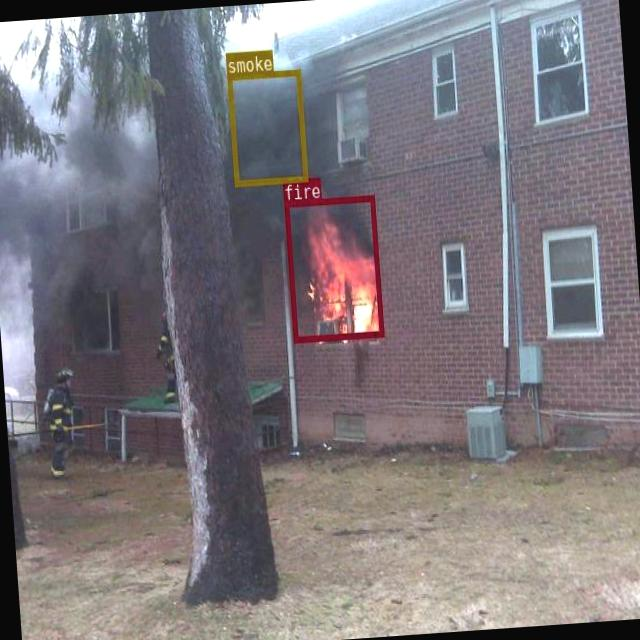fire: (282, 195, 383, 342)
smoke: (225, 68, 308, 186)
